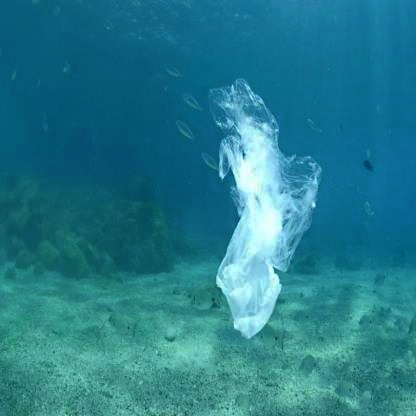pbag: (208, 77, 322, 342)
